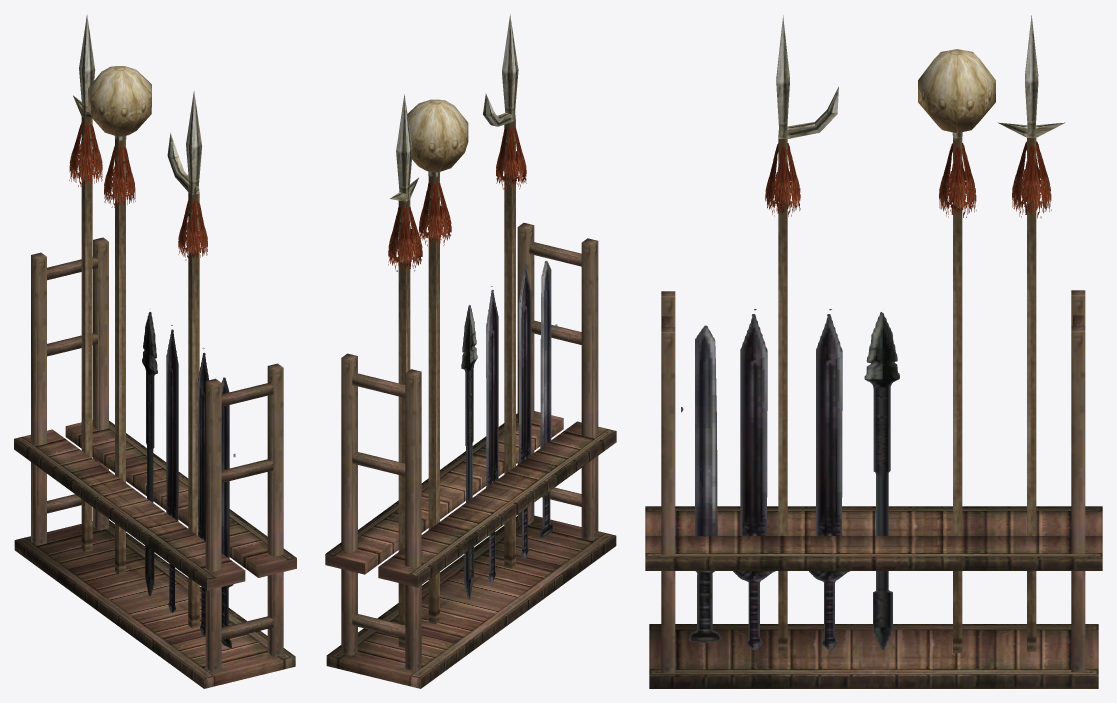
Rendered from wuqijia_yc_40.FBX.
3 views of the same model, side by side, from view 1: azimuth 30°, elevation 25°; view 2: azimuth 150°, elevation 25°; view 3: azimuth 270°, elevation 25° (orthographic). The views are drawn at different scales.
Visible parts, largest first — view 1: wuqijia_yc_40; view 2: wuqijia_yc_40; view 3: wuqijia_yc_40.
Part boxes in pixels (left/top/right/bottom): wuqijia_yc_40: left=14, top=14, right=296, bottom=688; wuqijia_yc_40: left=325, top=14, right=616, bottom=688; wuqijia_yc_40: left=645, top=15, right=1102, bottom=688.
Size of what is drawn, in the model's own units: 113 by 643 by 411.
